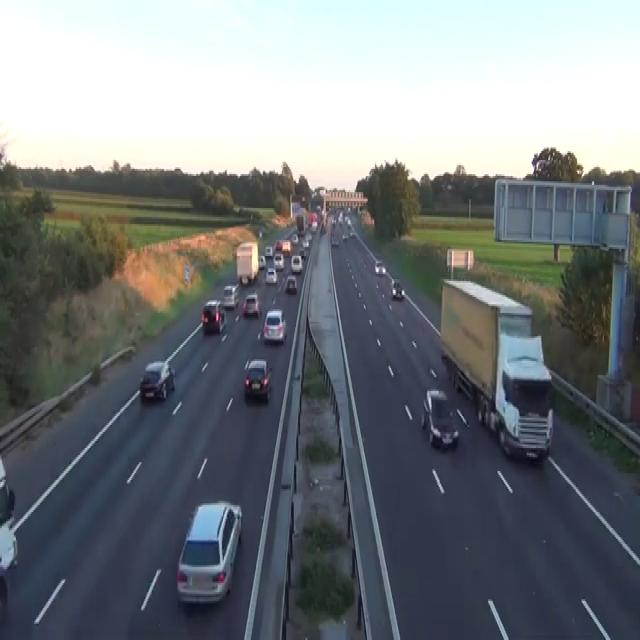Car: (175, 500, 242, 606), (421, 388, 459, 450), (139, 359, 176, 400), (244, 357, 272, 402), (0, 453, 15, 528), (0, 524, 18, 574), (201, 298, 226, 332), (262, 308, 286, 343), (452, 366, 474, 400), (222, 284, 239, 310), (242, 292, 260, 316), (391, 279, 404, 301), (284, 274, 297, 293), (290, 254, 302, 274), (374, 258, 386, 276), (265, 266, 277, 284), (273, 251, 284, 270), (282, 240, 291, 256), (264, 244, 273, 258), (258, 254, 266, 268), (298, 247, 306, 260), (331, 235, 339, 245), (275, 240, 282, 251), (302, 238, 309, 249), (305, 231, 312, 242), (232, 204, 240, 213), (291, 233, 298, 243), (320, 222, 326, 233), (345, 215, 351, 226), (341, 231, 348, 240), (311, 221, 317, 231), (349, 228, 356, 236), (297, 226, 304, 234), (331, 217, 336, 226), (258, 228, 262, 238)
Truck: (439, 278, 553, 462), (236, 242, 258, 284), (296, 212, 306, 234)
